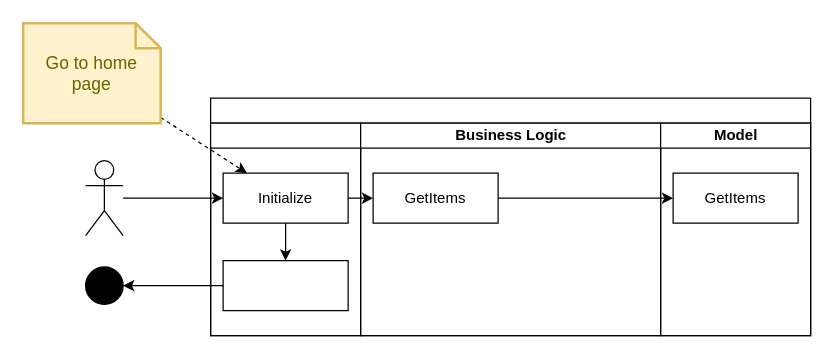
Image size: 833x358. Some labels were removed from this diagram. The box of each missing label's shape, as (x1, y1, x2, y2) in pixels:
Controller: (209, 122, 361, 336)
ShowItems: (222, 259, 348, 311)
Visitor/User/Admin: (84, 159, 123, 236)
